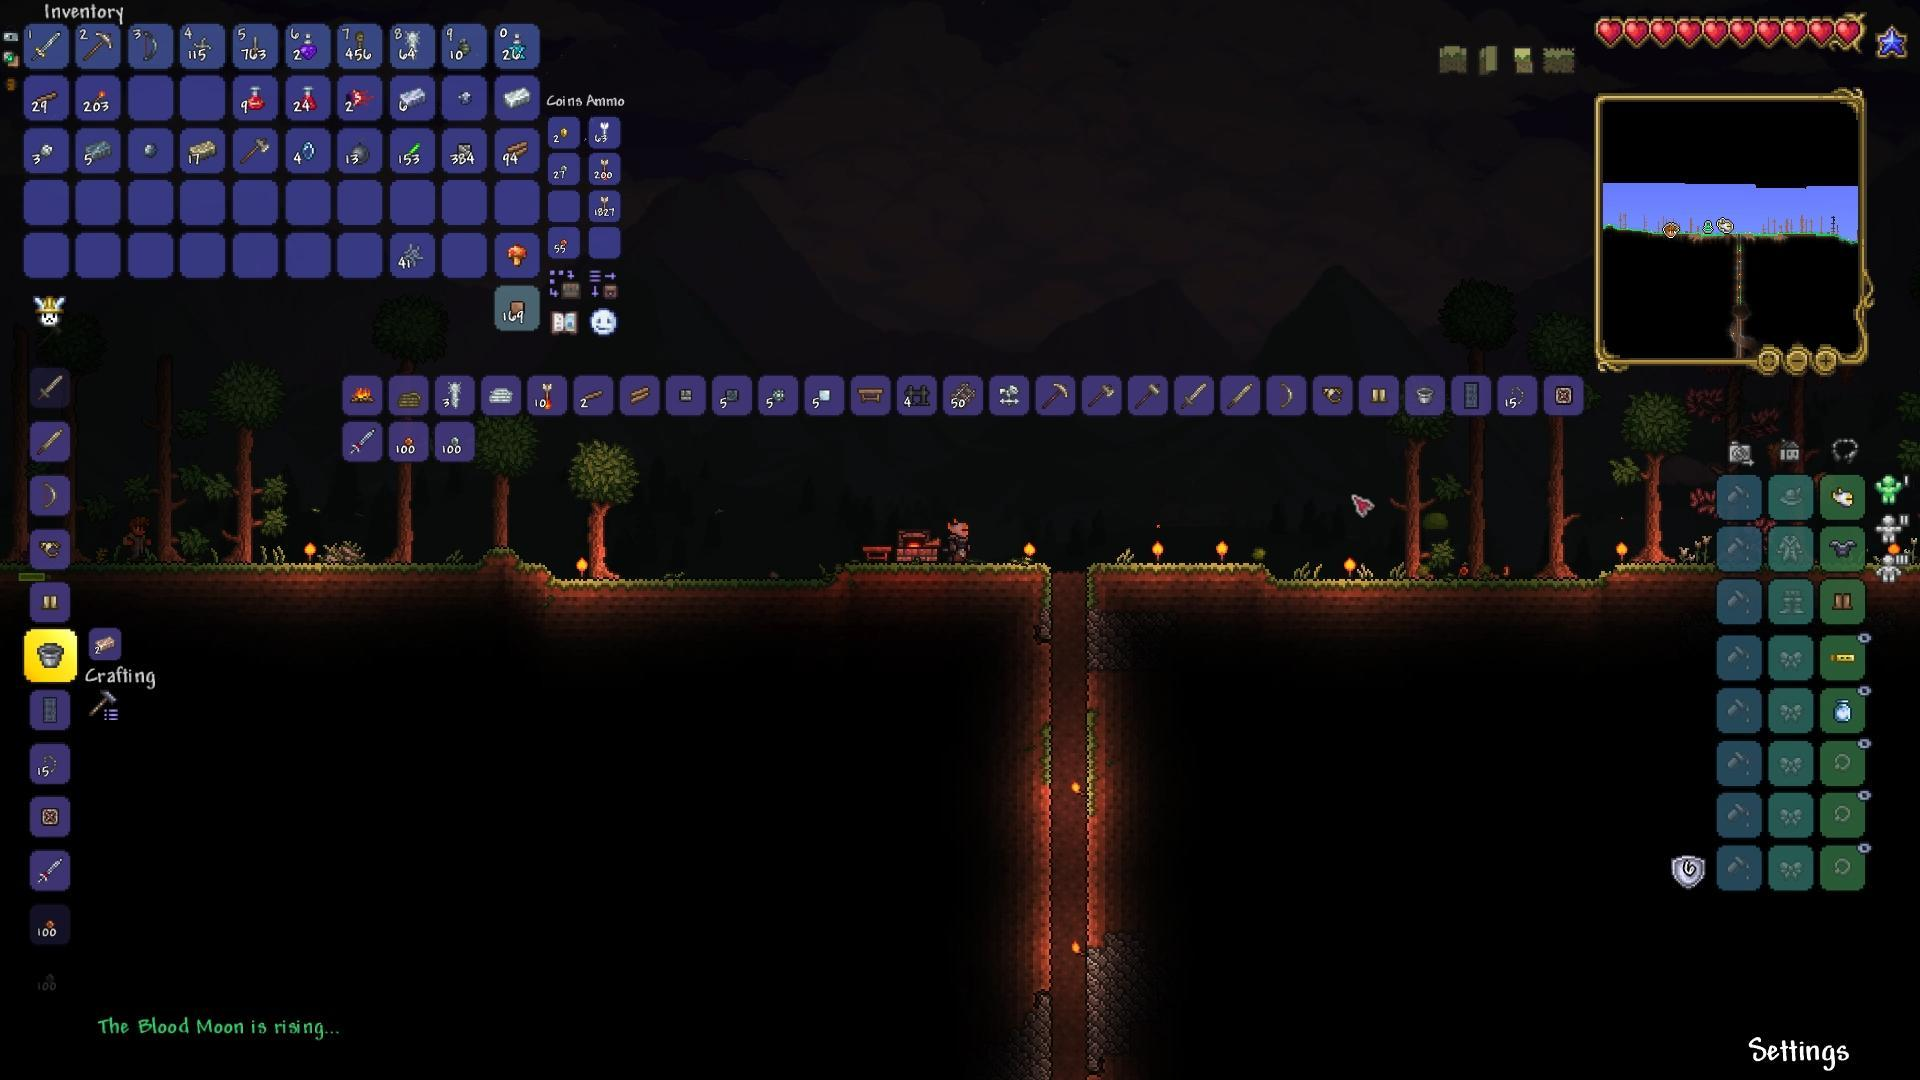dirt: (117, 550, 1050, 592), (1083, 554, 1716, 596), (1021, 637, 1065, 998), (1085, 661, 1120, 952)
